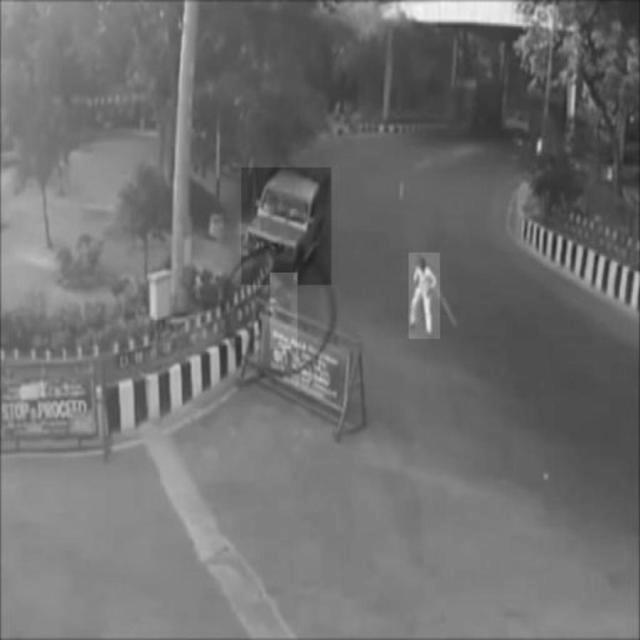accident: (242, 167, 332, 285)
person: (409, 253, 439, 339), (270, 273, 297, 349)
